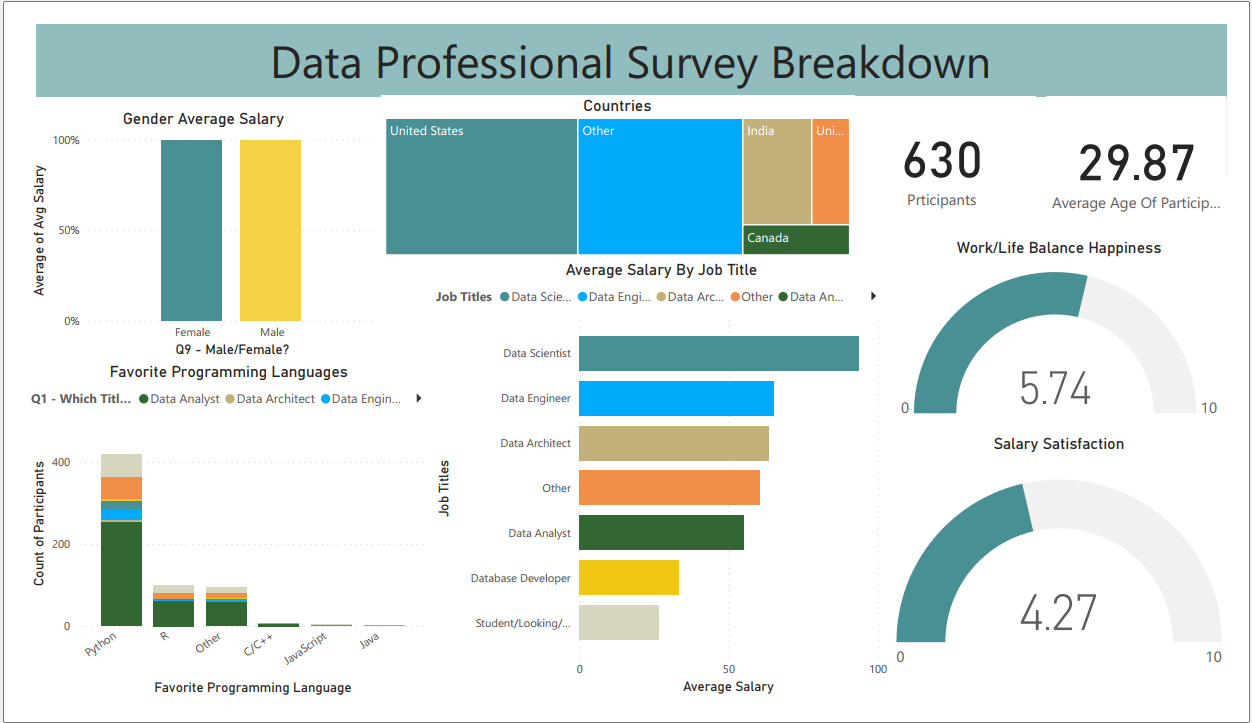

The page's visual inventory and layout, read from the dashboard file:
{"tool":"powerbi","page":{"name":"Page 1","canvas":[1280,720],"ordinal":0},"visuals":[{"type":"textbox","box":[9.6,0,1270.7,76.8],"z":0},{"type":"card","fields":{"Values":["Count(Data Professional Survey.Unique ID)"]},"box":[876.1,76.4,201.4,144.1],"z":1000},{"type":"card","fields":{"Values":["Avg(Data Professional Survey.Q10 - Current Age)"]},"box":[1087.7,76.4,192.6,149.9],"z":2000},{"type":"barChart","title":"Average Salary By Job Title","fields":{"Category":["Data Professional Survey.Q1 - Which Title Best Fits your Current Role?.1"],"Y":["Avg(Data Professional Survey.Avg Salary)"],"Series":["Data Professional Survey.Q1 - Which Title Best Fits your Current Role?.1"]},"box":[432.2,251.4,491,467.4],"z":3000},{"type":"columnChart","title":"Favorite Programming Languages","fields":{"Category":["Data Professional Survey.Q5 - Favorite Programming Language.1"],"Y":["CountNonNull(Data Professional Survey.Unique ID)"],"Series":["Data Professional Survey.Q1 - Which Title Best Fits your Current Role?.1"]},"box":[0,360.1,432.2,360.1],"z":4000},{"type":"treemap","title":"Countries","fields":{"Group":["Data Professional Survey.Q11 - Which Country do you live in?.1"],"Values":["CountNonNull(Data Professional Survey.Q11 - Which Country do you live in?.1)"]},"box":[377.8,76.4,505.7,174.9],"z":4001},{"type":"gauge","title":"Work/Life Balance Happiness","fields":{"Y":["Avg(Data Professional Survey.Q6 - How Happy are you in your Current Position with the following? (Work/Life Balance))"],"MinValue":["Min(Data Professional Survey.Q6 - How Happy are you in your Current Position with the following? (Work/Life Balance))"],"MaxValue":["Max(Data Professional Survey.Q6 - How Happy are you in your Current Position with the following? (Work/Life Balance))"]},"box":[923.1,227.8,357.2,208.7],"z":4002},{"type":"gauge","title":"Salary Satisfaction","fields":{"Y":["Avg(Data Professional Survey.Q6 - How Happy are you in your Current Position with the following? (Salary))"],"MinValue":["Min(Data Professional Survey.Q6 - How Happy are you in your Current Position with the following? (Salary))"],"MaxValue":["Max(Data Professional Survey.Q6 - How Happy are you in your Current Position with the following? (Salary))"]},"box":[923.1,436.6,357.2,283.7],"z":4003},{"type":"hundredPercentStackedColumnChart","title":"Gender Average Salary","fields":{"Category":["Data Professional Survey.Q9 - Male/Female?"],"Y":["Avg(Data Professional Survey.Avg Salary)"]},"box":[0,89.7,377.8,270.5],"z":4004}]}

Visuals, with their boxes in screenshot pixels (x1, y1, x2, y2), scaled from the page's 1280x720 canvas onto the 1252x723 screenshot:
textbox: <box>9,0,1251,77</box>
card - Count(Data Professional Survey.Unique ID): <box>857,77,1054,221</box>
card - Avg(Data Professional Survey.Q10 - Current Age): <box>1064,77,1251,227</box>
"Average Salary By Job Title" barChart: <box>423,252,903,722</box>
"Favorite Programming Languages" columnChart: <box>0,362,423,722</box>
"Countries" treemap: <box>370,77,864,252</box>
"Work/Life Balance Happiness" gauge: <box>903,229,1251,438</box>
"Salary Satisfaction" gauge: <box>903,438,1251,722</box>
"Gender Average Salary" hundredPercentStackedColumnChart: <box>0,90,370,362</box>
